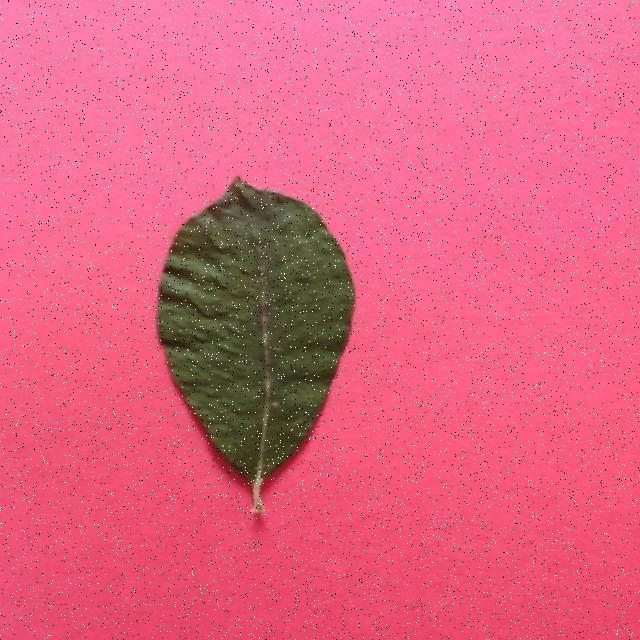foliage: (158, 178, 358, 518)
